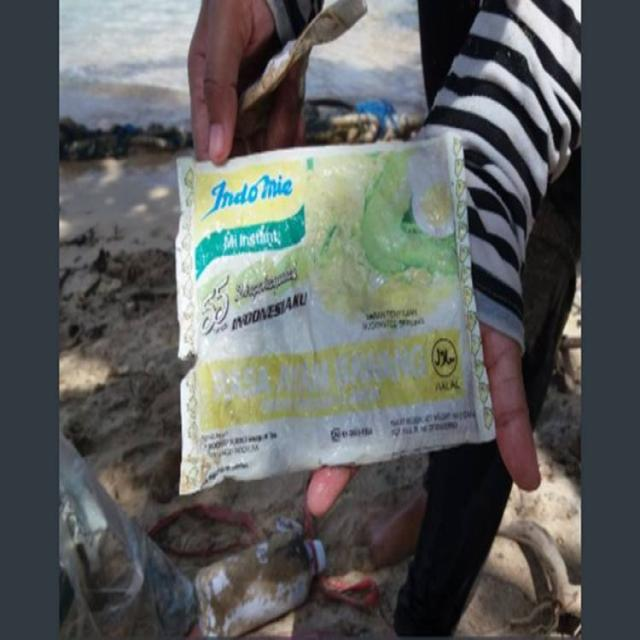Anorganik: (174, 149, 504, 469)
